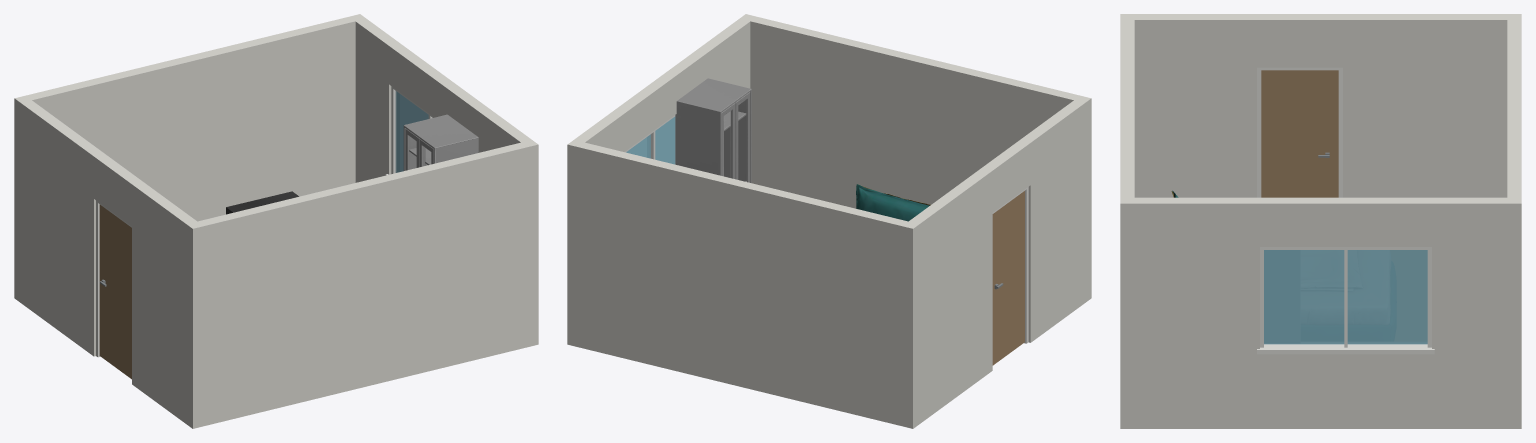
The model's file is instructscene.glb.
The picture shows the model from 3 angles, left to right: view 1: azimuth 30°, elevation 25°; view 2: azimuth 150°, elevation 25°; view 3: azimuth 270°, elevation 25°; orthographic projection. The views are drawn at different scales.
Visible parts, largest first — view 1: wall|scenesmith_047__R00|0, wall|scenesmith_047__R00|1, wall|scenesmith_047__R00|2, wall|scenesmith_047__R00|3, wall|scenesmith_047__R00|2 Door 0 | wood leaf, raw_model.001, wall|scenesmith_047__R00|3 Window 0 | glazing, wall|scenesmith_047__R00|2 Door 0 | jamb, wall|scenesmith_047__R00|3 Window 0 | jamb, raw_model.002; view 2: wall|scenesmith_047__R00|1, wall|scenesmith_047__R00|0, wall|scenesmith_047__R00|2, wall|scenesmith_047__R00|3, raw_model.001, wall|scenesmith_047__R00|2 Door 0 | wood leaf, raw_model, wall|scenesmith_047__R00|3 Window 0 | glazing, wall|scenesmith_047__R00|2 Door 0 | jamb; view 3: wall|scenesmith_047__R00|3, wall|scenesmith_047__R00|2, wall|scenesmith_047__R00|3 Window 0 | glazing, wall|scenesmith_047__R00|2 Door 0 | wood leaf, wall|scenesmith_047__R00|1, wall|scenesmith_047__R00|0, wall|scenesmith_047__R00|3 Window 0 | jamb, wall|scenesmith_047__R00|2 Door 0 | jamb.
Part boxes in pixels (x1,y1,x2,y2): wall|scenesmith_047__R00|0: (187,140,538,428); wall|scenesmith_047__R00|1: (15,14,365,221); wall|scenesmith_047__R00|2: (14,98,203,428); wall|scenesmith_047__R00|3: (350,14,534,182); wall|scenesmith_047__R00|2 Door 0 | wood leaf: (99,204,131,379); raw_model.001: (403,114,478,170); wall|scenesmith_047__R00|3 Window 0 | glazing: (395,91,428,172); wall|scenesmith_047__R00|2 Door 0 | jamb: (96,200,131,357); wall|scenesmith_047__R00|3 Window 0 | jamb: (385,86,433,175); raw_model.002: (226,191,298,214); wall|scenesmith_047__R00|1: (567,140,918,425); wall|scenesmith_047__R00|0: (740,14,1090,208); wall|scenesmith_047__R00|2: (902,98,1091,428); wall|scenesmith_047__R00|3: (571,14,755,151); raw_model.001: (675,78,751,182); wall|scenesmith_047__R00|2 Door 0 | wood leaf: (992,191,1024,365); raw_model: (856,184,930,221); wall|scenesmith_047__R00|3 Window 0 | glazing: (626,116,675,164); wall|scenesmith_047__R00|2 Door 0 | jamb: (992,187,1028,343); wall|scenesmith_047__R00|3: (1120,197,1521,428); wall|scenesmith_047__R00|2: (1134,14,1507,197); wall|scenesmith_047__R00|3 Window 0 | glazing: (1264,250,1427,344); wall|scenesmith_047__R00|2 Door 0 | wood leaf: (1261,70,1338,197); wall|scenesmith_047__R00|1: (1507,14,1521,428); wall|scenesmith_047__R00|0: (1120,14,1134,428); wall|scenesmith_047__R00|3 Window 0 | jamb: (1257,247,1434,354); wall|scenesmith_047__R00|2 Door 0 | jamb: (1257,67,1342,197).
Bounding box in the file's own units: 4.73 × 2.62 × 4.2.
10 materials, 4 textured.
